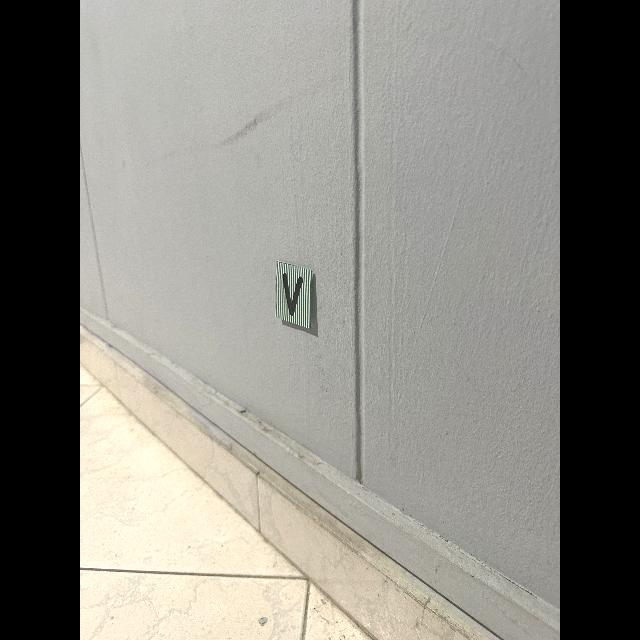V: (283, 273, 303, 316)
